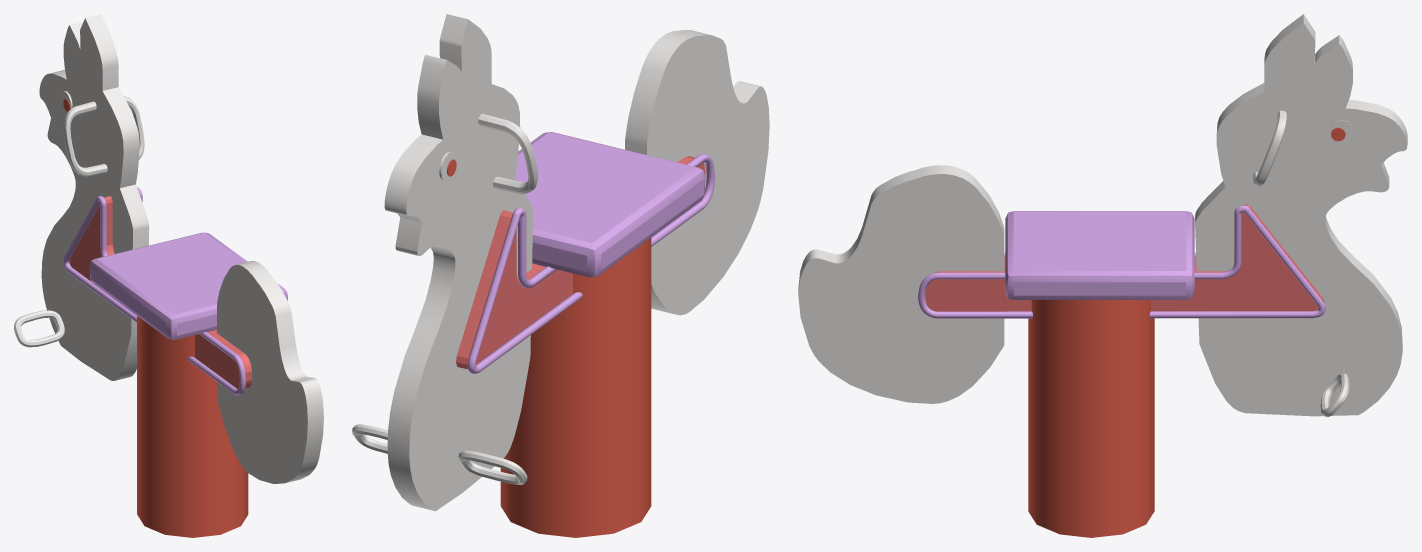
The model's file is Caballito_03.fbx.
The picture shows the model from 3 angles, left to right: view 1: azimuth 30°, elevation 25°; view 2: azimuth 150°, elevation 25°; view 3: azimuth 270°, elevation 25°; orthographic projection. The views are drawn at different scales.
Visible parts, largest first — view 1: Caballito_03.011, Caballito_03.007, Caballito_03.012, Caballito_03.001, Caballito_03.010, Caballito_03.015, Caballito_03, Caballito_03.009; view 2: Caballito_03.011, Caballito_03.007, Caballito_03.012, Caballito_03.001, Caballito_03.010, Caballito_03.015, Caballito_03, Caballito_03.009, Caballito_03.008; view 3: Caballito_03.011, Caballito_03.012, Caballito_03.007, Caballito_03.001, Caballito_03.010, Caballito_03.016, Caballito_03, Caballito_03.008.
Part boxes in pixels (bbox=[...]): Caballito_03.011: bbox=[39, 14, 149, 380]; Caballito_03.007: bbox=[137, 316, 248, 537]; Caballito_03.012: bbox=[217, 261, 323, 483]; Caballito_03.001: bbox=[90, 232, 287, 339]; Caballito_03.010: bbox=[69, 196, 251, 388]; Caballito_03.015: bbox=[63, 196, 245, 395]; Caballito_03: bbox=[63, 96, 144, 176]; Caballito_03.009: bbox=[14, 310, 64, 347]; Caballito_03.011: bbox=[384, 14, 532, 511]; Caballito_03.007: bbox=[500, 238, 651, 537]; Caballito_03.012: bbox=[625, 30, 769, 315]; Caballito_03.001: bbox=[515, 132, 704, 277]; Caballito_03.010: bbox=[456, 156, 705, 369]; Caballito_03.015: bbox=[467, 153, 714, 373]; Caballito_03: bbox=[478, 113, 537, 193]; Caballito_03.009: bbox=[458, 450, 527, 484]; Caballito_03.008: bbox=[352, 424, 387, 453]; Caballito_03.011: bbox=[1195, 14, 1407, 416]; Caballito_03.012: bbox=[798, 165, 1004, 403]; Caballito_03.007: bbox=[1028, 300, 1154, 537]; Caballito_03.001: bbox=[1005, 211, 1194, 299]; Caballito_03.010: bbox=[925, 204, 1324, 311]; Caballito_03.016: bbox=[918, 205, 1325, 318]; Caballito_03: bbox=[1253, 110, 1286, 186]; Caballito_03.008: bbox=[1320, 373, 1349, 417].
Bounding box in the file's own units: 3.4 × 10.78 × 12.16.
